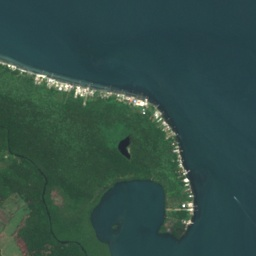Ship: (229, 193, 245, 209)
